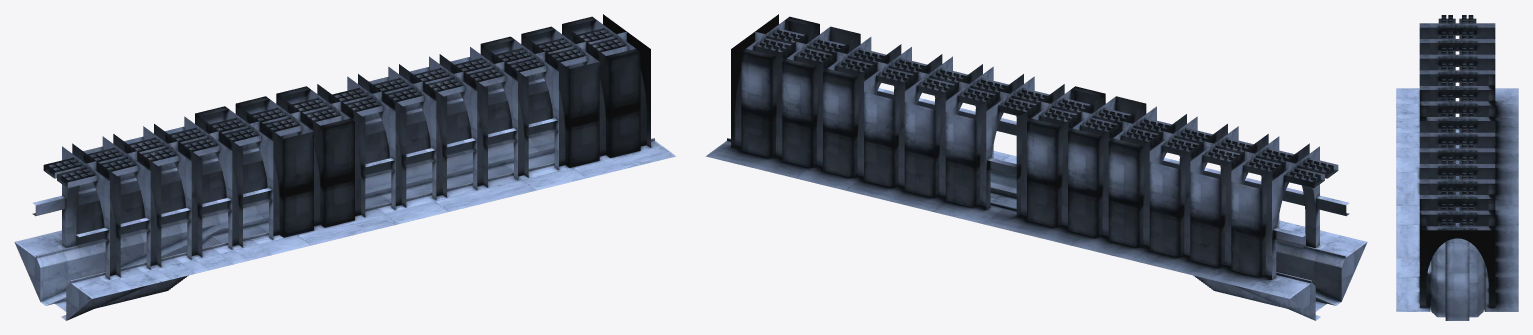
Rendered from candidate.roomkit.unknown-interior-a5e1.glb.
3 renders of one model, left to right at view 1: azimuth 30°, elevation 25°; view 2: azimuth 150°, elevation 25°; view 3: azimuth 270°, elevation 25°, orthographic. The views are drawn at different scales.
Visible parts, largest first — view 1: Plane; view 2: Plane; view 3: Plane.
Part boxes in pixels (left/top/right/bottom): Plane: left=14, top=14, right=676, bottom=320; Plane: left=705, top=14, right=1367, bottom=320; Plane: left=1396, top=15, right=1518, bottom=320.
Bounding box in the file's own units: 53.72 × 12.29 × 12.4.
Materials: 1 (1 with a texture image).
